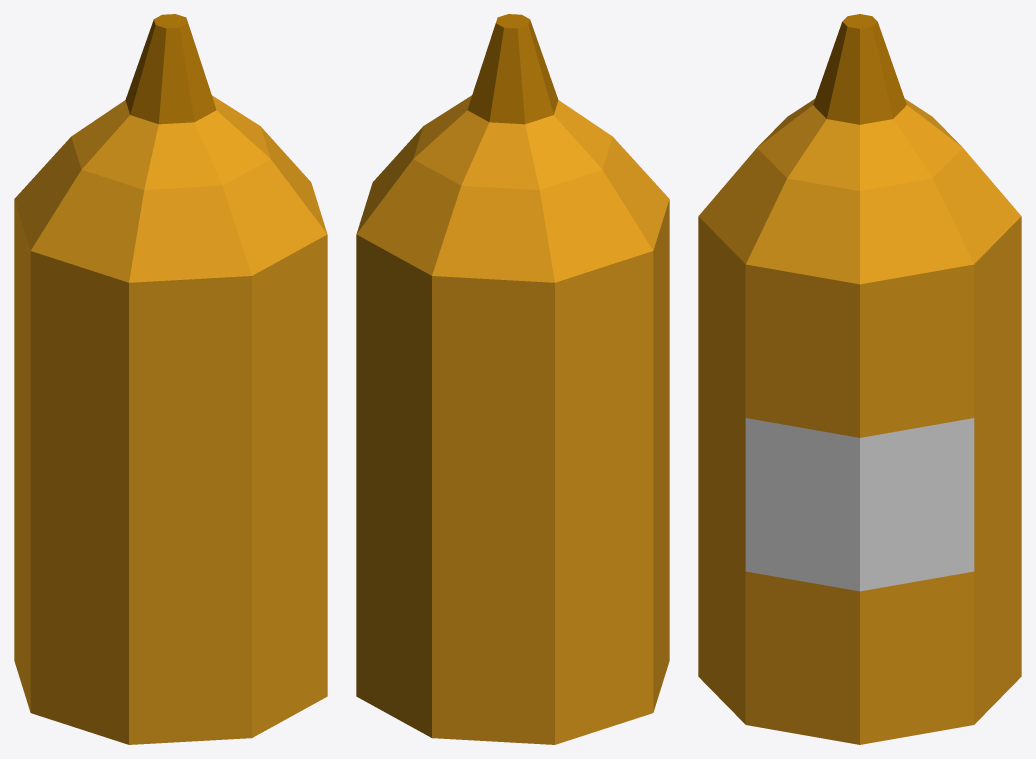
File: Mustard.gltf
The picture shows the model from 3 angles, left to right: view 1: azimuth 30°, elevation 25°; view 2: azimuth 150°, elevation 25°; view 3: azimuth 270°, elevation 25°; orthographic projection.
Parts seen in each view (by area): view 1: Cylinder; view 2: Cylinder; view 3: Cylinder.
Part boxes in pixels (left/top/right/bottom): Cylinder: left=14, top=14, right=327, bottom=744; Cylinder: left=356, top=14, right=669, bottom=744; Cylinder: left=698, top=14, right=1021, bottom=744.
Bounding box in the file's own units: 0.12 × 0.2686 × 0.12.
1 material, 1 textured.
